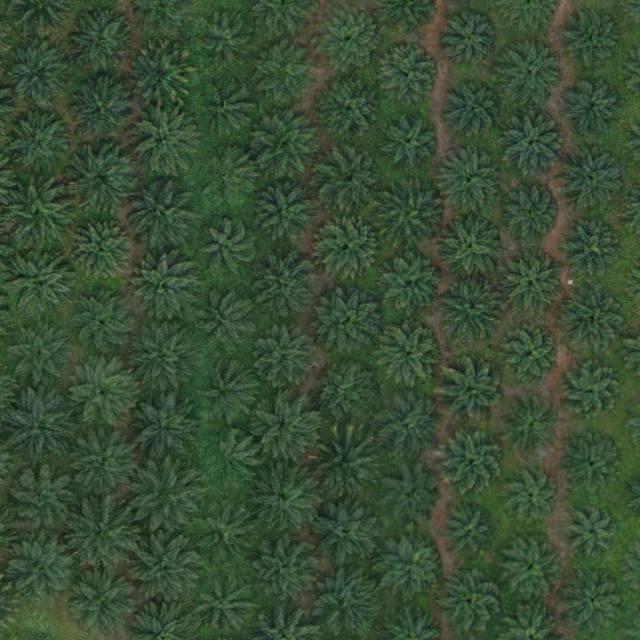Healthy: (317, 75, 388, 146), (435, 213, 506, 284), (440, 275, 511, 346), (557, 144, 628, 215), (67, 429, 138, 500), (65, 498, 136, 569), (7, 466, 78, 537), (6, 250, 76, 321), (66, 146, 136, 217), (68, 286, 138, 357), (125, 178, 196, 248), (128, 254, 198, 325), (254, 111, 324, 182), (315, 5, 385, 76), (378, 178, 448, 249), (434, 146, 504, 217), (499, 109, 569, 180), (557, 285, 627, 356), (437, 357, 507, 428), (438, 426, 508, 497), (311, 359, 381, 430), (311, 431, 381, 502), (312, 497, 383, 567), (310, 565, 380, 636), (247, 464, 318, 534), (251, 537, 322, 607), (131, 460, 201, 531), (132, 533, 202, 604), (69, 566, 139, 637), (4, 322, 74, 393), (5, 391, 75, 462), (66, 8, 136, 78), (3, 40, 73, 110), (2, 107, 72, 177), (129, 105, 199, 175), (130, 322, 200, 392), (252, 179, 322, 249), (252, 322, 322, 392), (317, 147, 387, 217), (317, 287, 387, 357), (253, 393, 323, 463), (129, 394, 199, 464), (67, 358, 137, 428), (11, 533, 81, 603), (69, 79, 132, 142), (257, 256, 320, 319), (382, 252, 445, 315), (442, 12, 505, 75), (560, 9, 623, 72), (562, 77, 625, 140), (560, 360, 623, 423), (564, 570, 627, 633), (500, 394, 563, 457), (382, 535, 445, 598), (71, 218, 133, 281), (319, 216, 381, 279), (379, 43, 442, 105), (381, 112, 443, 175), (444, 78, 506, 141), (502, 39, 564, 102), (502, 255, 565, 317), (561, 217, 623, 280), (500, 324, 563, 386), (501, 537, 563, 600), (441, 571, 503, 634), (378, 324, 440, 387), (376, 394, 438, 457), (382, 466, 444, 529), (198, 360, 260, 423), (195, 576, 258, 638), (260, 44, 322, 106), (501, 182, 563, 244), (563, 433, 625, 495), (193, 502, 255, 564), (203, 16, 258, 71), (201, 84, 256, 139), (200, 293, 255, 348), (567, 504, 622, 559), (444, 505, 499, 560), (204, 433, 259, 488), (203, 149, 257, 204), (200, 221, 254, 276), (506, 469, 560, 524)
Yellow: (126, 40, 197, 110)
